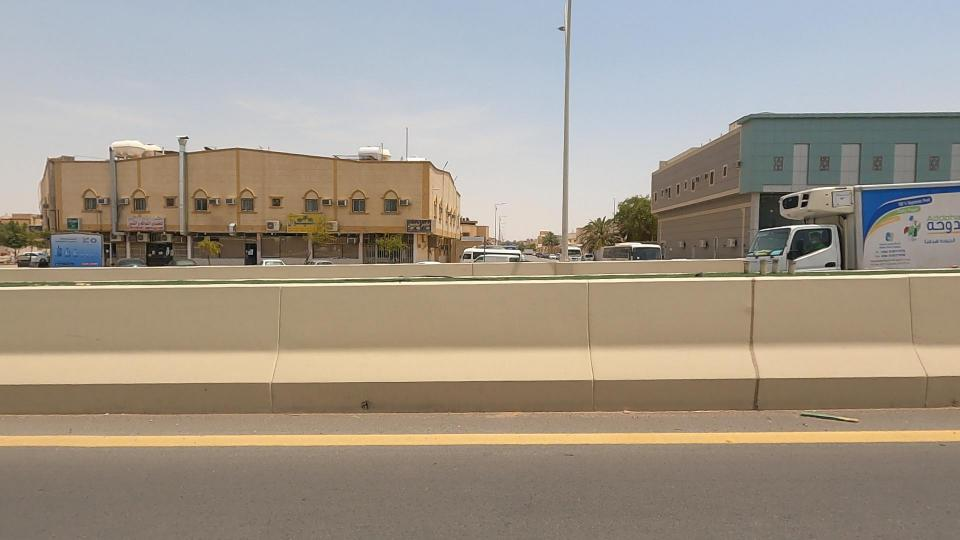GARBAGE: (751, 372, 904, 451)
